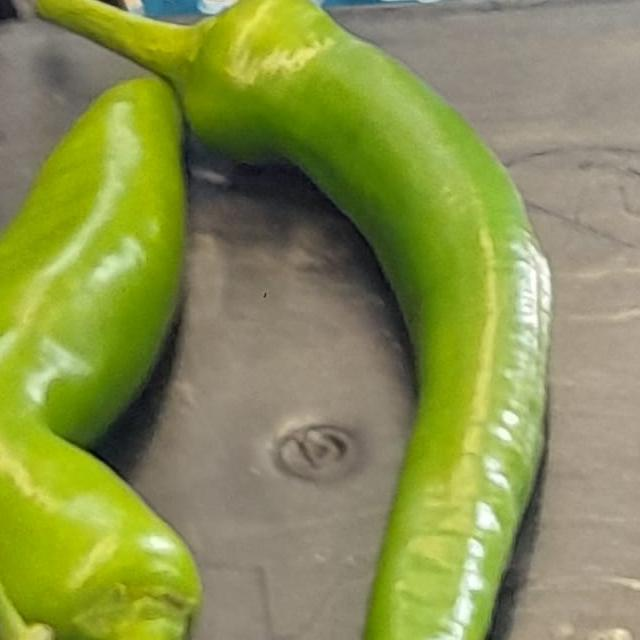chili_pepper: (96, 0, 569, 640), (0, 3, 240, 640)
